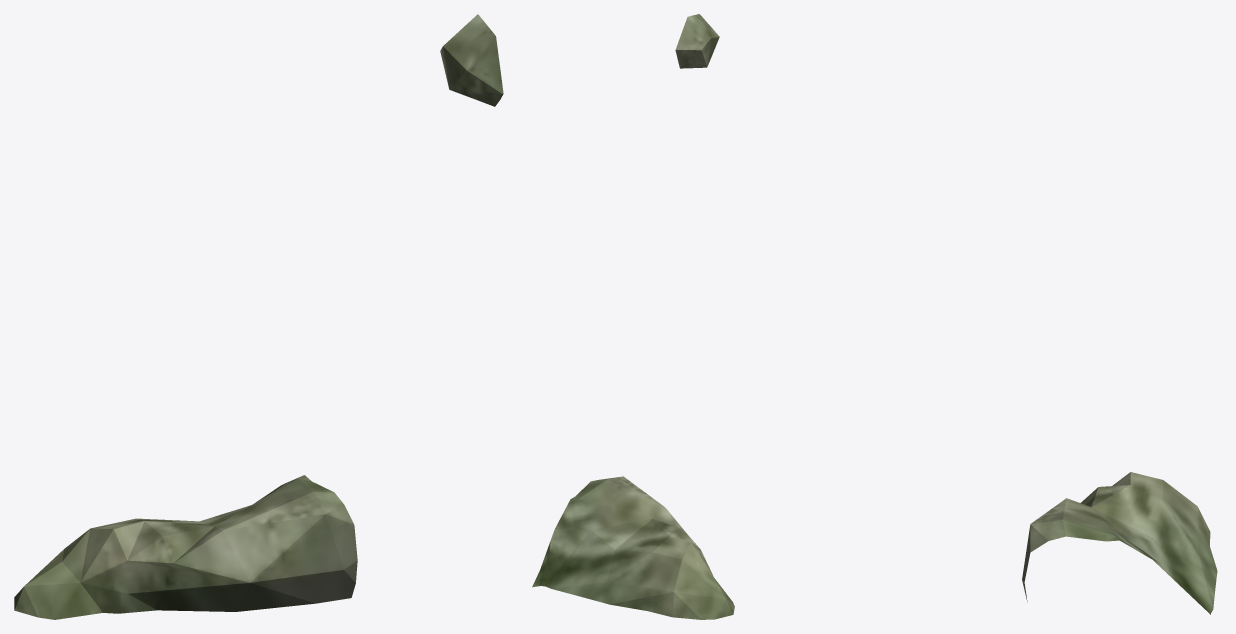
3 views of the same model, side by side, from view 1: azimuth 30°, elevation 25°; view 2: azimuth 150°, elevation 25°; view 3: azimuth 270°, elevation 25° (orthographic). The views are drawn at different scales.
Size of the model in its own units: 0.6482 by 1.58 by 1.08.
Materials: 1 (1 with a texture image).
